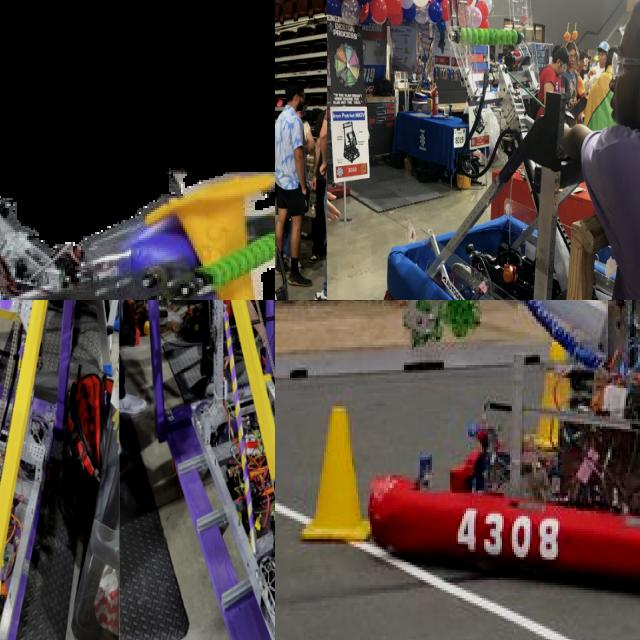FRC-Robots: (355, 300, 640, 604), (0, 0, 275, 300), (373, 0, 640, 300), (0, 300, 119, 640), (175, 300, 275, 640)
